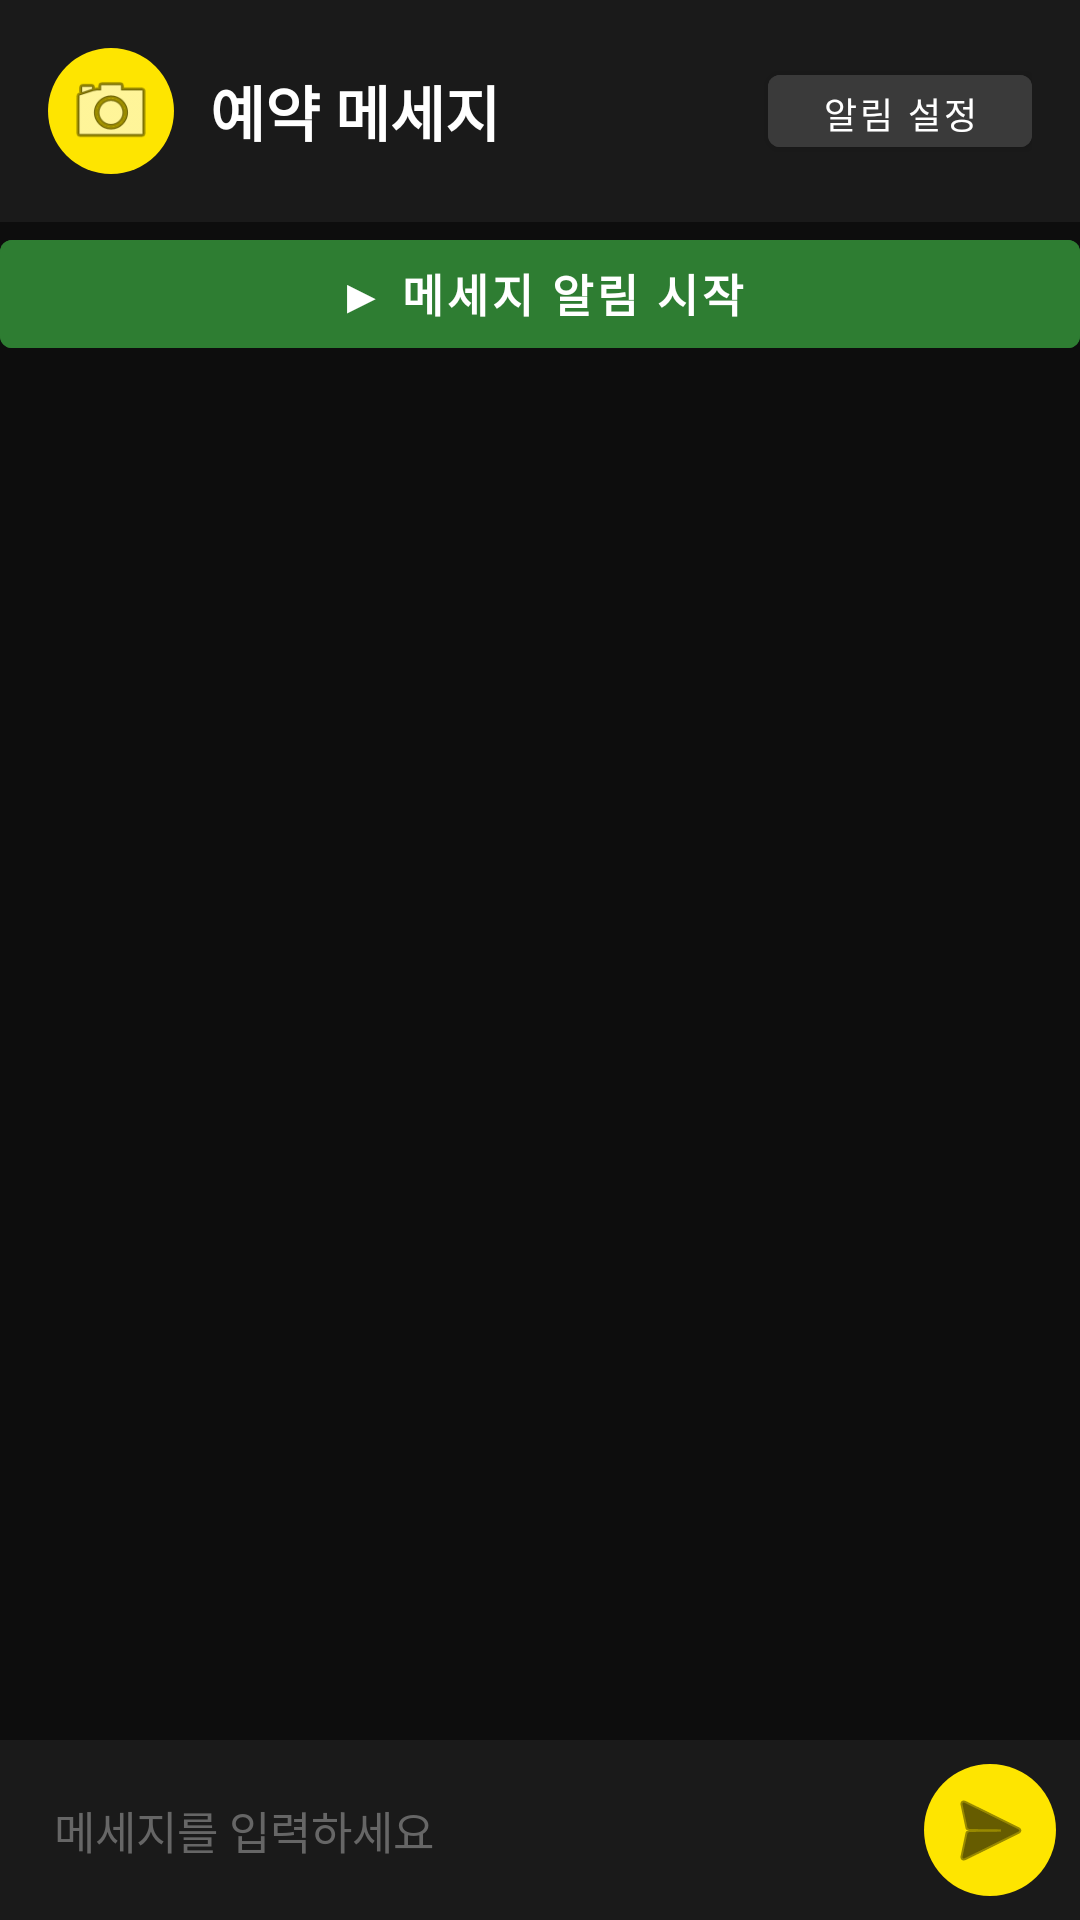

Locate icon controls on the screen. Image size 1080px×1920px, boxes as (x1, y1, x2, y2).
camera: (48, 48, 174, 174)
send: (924, 1764, 1056, 1896)
